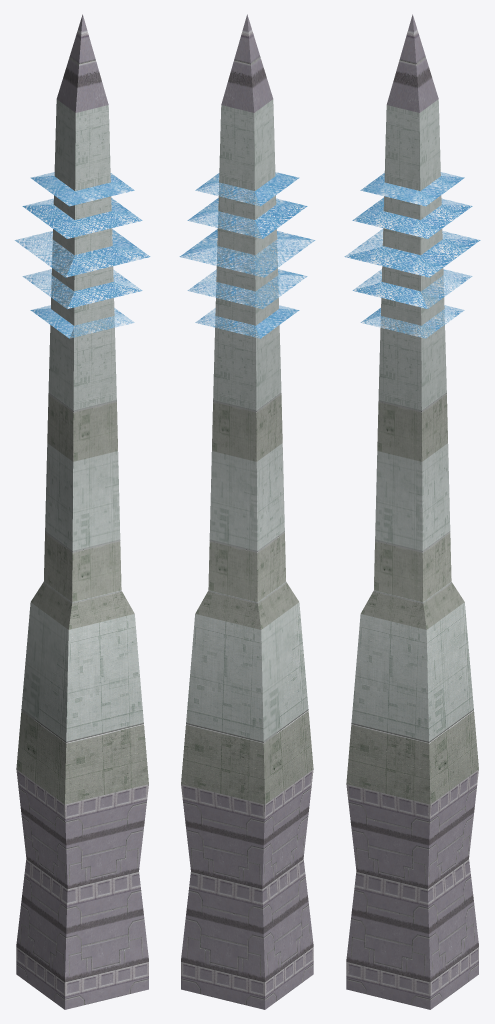
The model's file is bes2_bldg_clock_tower.glb.
The picture shows the model from 3 angles, left to right: view 1: azimuth 30°, elevation 25°; view 2: azimuth 150°, elevation 25°; view 3: azimuth 330°, elevation 25°; orthographic projection.
Parts seen in each view (by area): view 1: mesh_part3, mesh_part4, mesh_part1, mesh_part2, mesh_part5; view 2: mesh_part3, mesh_part4, mesh_part2, mesh_part1, mesh_part5; view 3: mesh_part3, mesh_part4, mesh_part1, mesh_part2, mesh_part5.
Boxes of the visible parts, box(x1,y1,x2,y2) form: mesh_part3: box(16, 99, 148, 804); mesh_part4: box(16, 769, 148, 1009); mesh_part1: box(22, 173, 150, 338); mesh_part2: box(15, 172, 141, 338); mesh_part5: box(56, 14, 108, 112); mesh_part3: box(181, 99, 313, 804); mesh_part4: box(181, 769, 313, 1009); mesh_part2: box(180, 182, 314, 338); mesh_part1: box(179, 172, 314, 338); mesh_part5: box(221, 14, 273, 112); mesh_part3: box(346, 99, 478, 804); mesh_part4: box(346, 769, 478, 1009); mesh_part1: box(344, 173, 480, 322); mesh_part2: box(345, 172, 478, 338); mesh_part5: box(386, 14, 438, 112).
Bounding box in the file's own units: 3.04 × 33 × 3.17.
Materials: 5 (5 with a texture image).
